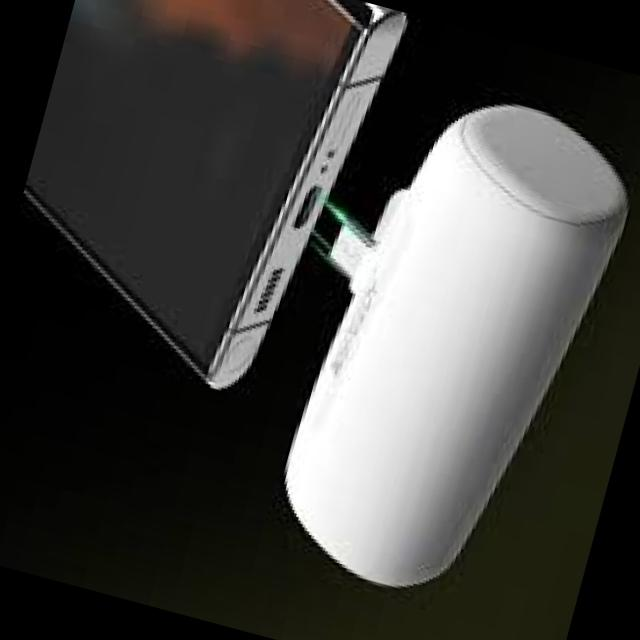power_bank: (238, 60, 640, 630)
